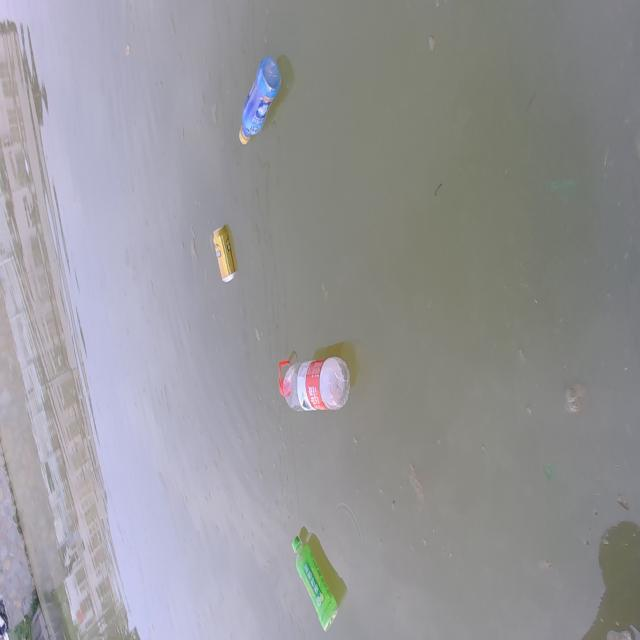garbage: (291, 525, 347, 631), (278, 353, 350, 411), (238, 55, 280, 145)
